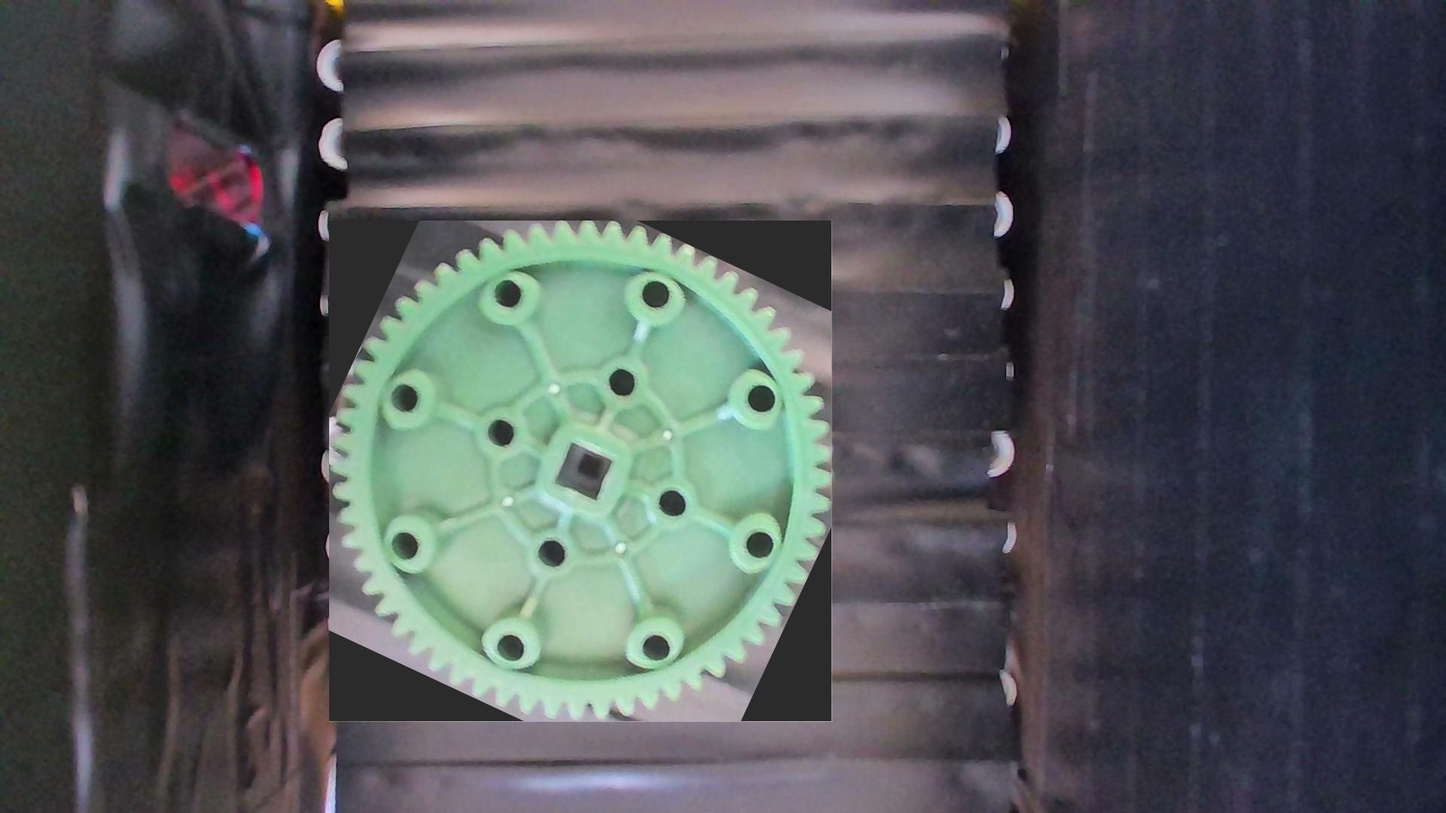gear: (330, 221, 833, 722)
